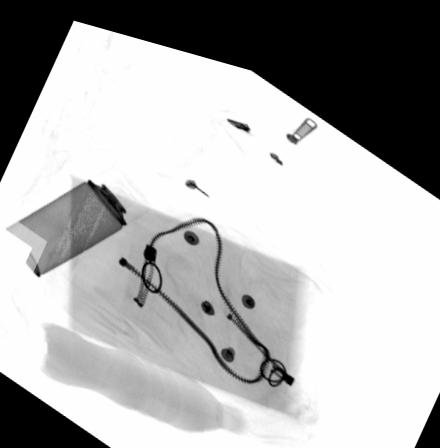Sprayer: (3, 156, 151, 277)
